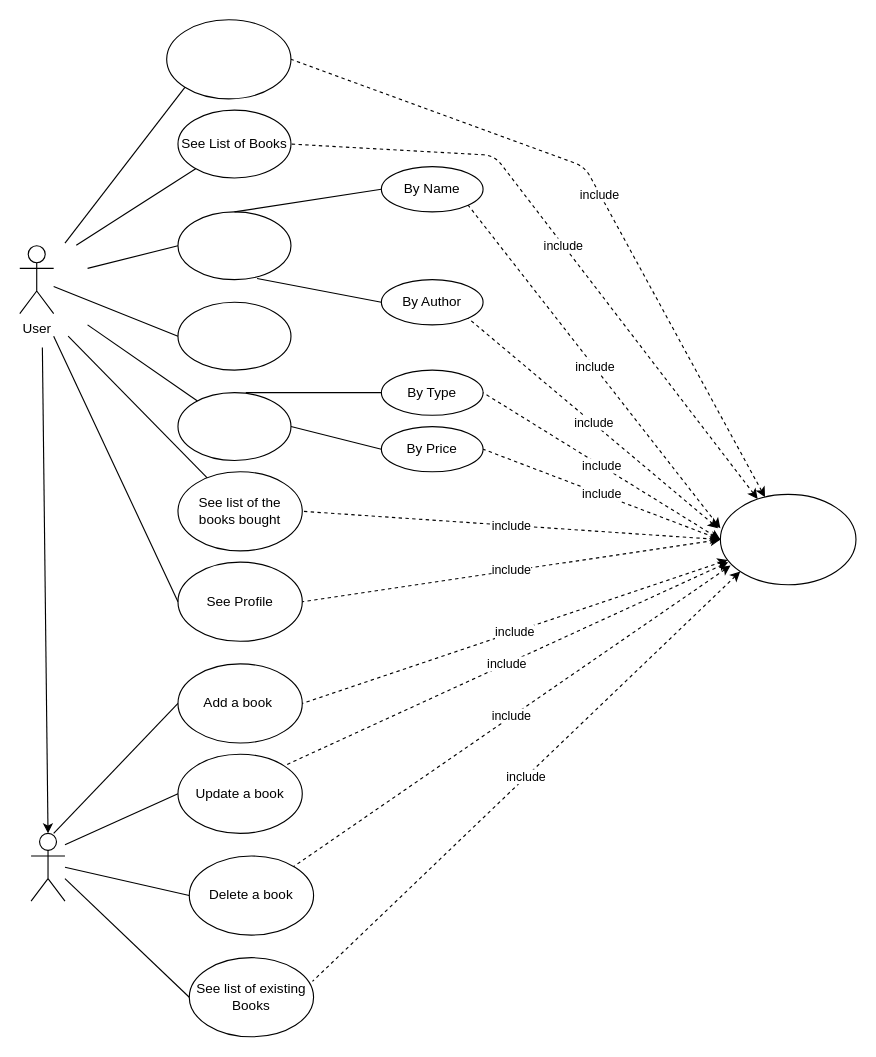
This 876x1057 diagram has some shape labels left out. Each missing label, with the box of its shape:
Actor: (30, 832, 65, 901)
Authentication: (719, 493, 856, 585)
Navigate to the description page of the book: (166, 19, 291, 99)
Rate a book: (177, 301, 291, 370)
Search for a Book: (177, 211, 291, 280)
Sort the books by Price: (177, 392, 291, 460)
